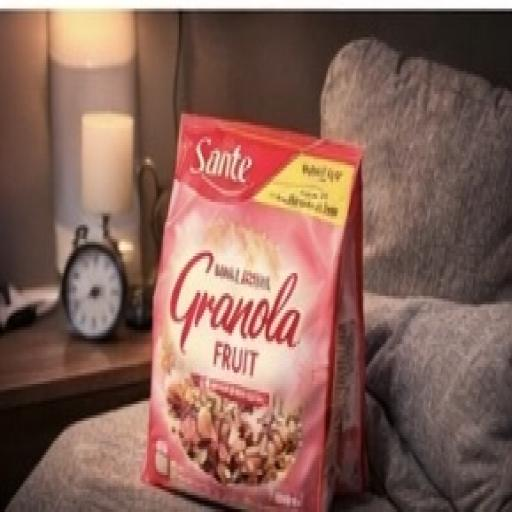granola: (131, 84, 375, 512)
